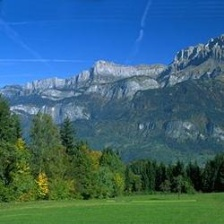neutral: (2, 3, 223, 223)
